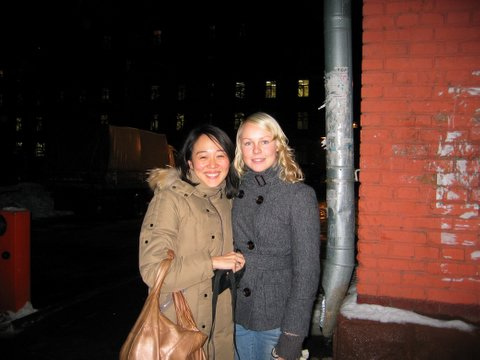person: (140, 124, 247, 360), (233, 112, 323, 360)
